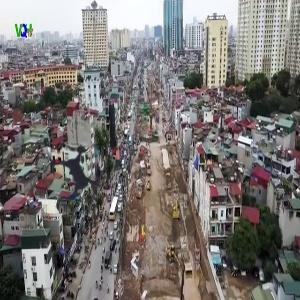drone: (19, 121, 125, 227)
